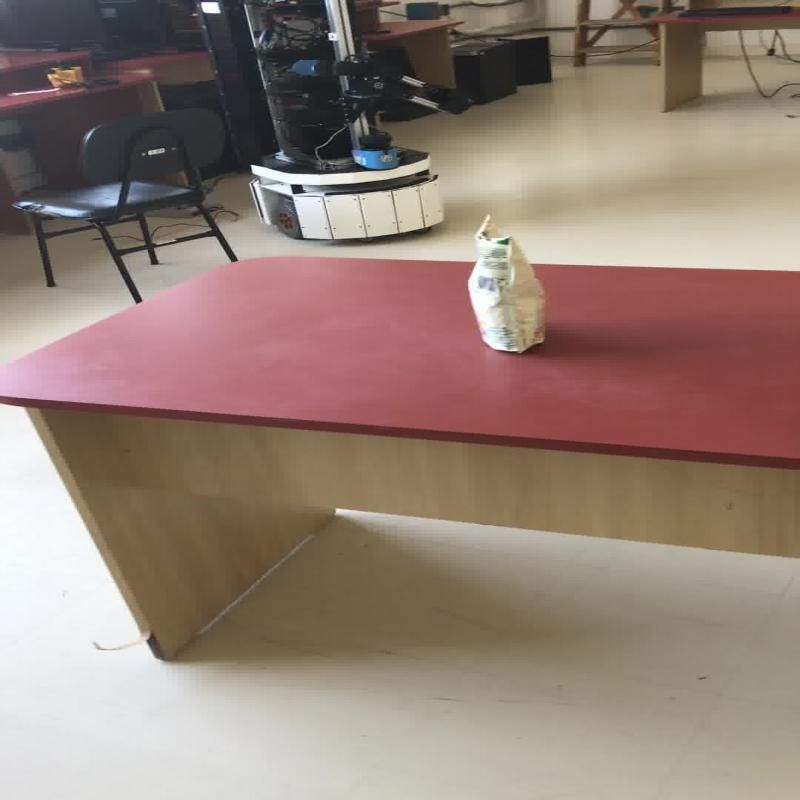corn flakes: (464, 214, 546, 352)
